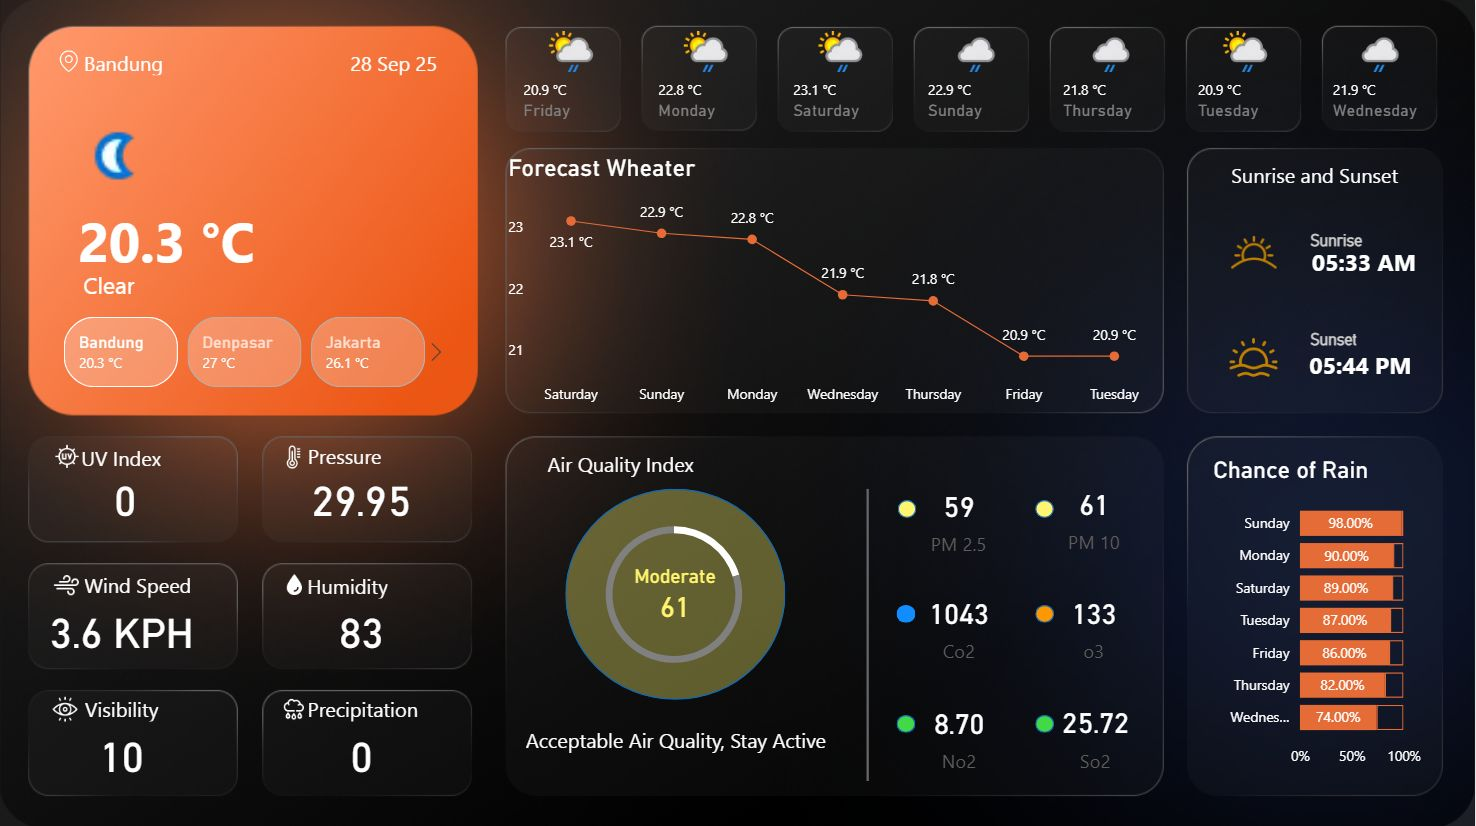

Layout of this report page (visuals, bound fields, positions):
{"tool":"powerbi","page":{"name":"Page 1","canvas":[1280,720],"ordinal":0},"visuals":[{"type":"shape","box":[491,424,191,183],"z":0},{"type":"advancedSlicerVisual","fields":{"Values":["Location.location.name"]},"box":[31.8,270,363.6,71.8],"z":1000},{"type":"shape","box":[60,150,218.3,116.7],"z":2000},{"type":"shape","box":[64.3,212.9,427.1,68.6],"z":3000},{"type":"shape","box":[73.6,40.9,97.3,25.5],"z":4000},{"type":"shape","box":[287.3,40.9,92.7,26.4],"z":5000},{"type":"image","box":[40,39.1,40.9,28.2],"z":6000},{"type":"cardVisual","fields":{"Data":["Min(Current.current.condition.icon)"]},"box":[21.7,53.3,158.3,118.3],"z":7000},{"type":"image","box":[40,600,34.1,31.4],"z":8000},{"type":"image","box":[41.4,491.4,34.3,32.9],"z":9000},{"type":"image","box":[42.9,380,31.4,32.9],"z":10000},{"type":"image","box":[240.9,381.4,30,30],"z":11000},{"type":"image","box":[241.4,491.4,29.1,32.7],"z":12000},{"type":"image","box":[238.9,600,34.4,31.1],"z":13000},{"type":"shape","box":[60,383.8,92.5,26.2],"z":14000},{"type":"shape","box":[253.3,383,92.3,26.3],"z":15000},{"type":"shape","box":[60.6,494.7,119.4,25.9],"z":16000},{"type":"shape","box":[263,494,77.7,26.7],"z":17000},{"type":"shape","box":[66.9,602.3,78.5,26.2],"z":18000},{"type":"shape","box":[256.2,602.3,119.2,26.2],"z":19000},{"type":"card","fields":{"Values":["Sum(Current.current.uv)"]},"box":[31.7,410,156.7,43.3],"z":20000},{"type":"card","fields":{"Values":["Sum(Current.current.pressure_in)"]},"box":[236.7,410,156.7,43.3],"z":21000},{"type":"card","fields":{"Values":["Sum(Current.current.humidity)"]},"box":[236.7,525,156.7,43.3],"z":22000},{"type":"card","fields":{"Values":["_Measures.Wind_Speed"]},"box":[28.3,525,156.7,43.3],"z":23000},{"type":"card","fields":{"Values":["Sum(Current.current.vis_km)"]},"box":[28.3,631.7,156.7,43.3],"z":24000},{"type":"card","fields":{"Values":["Sum(Current.current.precip_in)"]},"box":[236.7,631.7,156.7,43.3],"z":25000},{"type":"advancedSlicerVisual","fields":{"Values":["Forecast_Day.Day_Name"]},"box":[437.1,14.3,822.9,107.1],"z":26000},{"type":"lineChart","title":"Forecast Wheater","fields":{"Y":["Sum(Forecast_Day.forecast.forecastday.day.avgtemp_c)"],"Category":["Forecast_Day.Day_Name"]},"box":[437.1,132.9,567.1,227.1],"z":27000},{"type":"shape","box":[1067.5,133.1,148.8,36.9],"z":28000},{"type":"shape","box":[1130,205.5,130,41.8],"z":29000},{"type":"shape","box":[1128.2,290.9,119.1,50.9],"z":30000},{"type":"shape","box":[1128.6,265.1,110,57.1],"z":31000},{"type":"shape","box":[1129.1,179.1,110,58.2],"z":32000},{"type":"image","box":[1048.6,187.1,80,62.9],"z":33000},{"type":"image","box":[1062.9,281.4,51.4,55.7],"z":34000},{"type":"hundredPercentStackedBarChart","title":"Chance of Rain","fields":{"Y":["Sum(Forecast_Day.forecast.forecastday.day.daily_chance_of_rain)","_Measures.Left_Val_Rain"],"Category":["Forecast_Day.Day_Name"]},"box":[1048.6,395.7,190,278.6],"z":35000},{"type":"shape","box":[460,391,159,23],"z":36000},{"type":"card","fields":{"Values":["Sum(Current.current.air_quality.pm10)"]},"box":[914.6,402.7,72,92],"z":37000},{"type":"card","fields":{"Values":["Sum(Current.current.air_quality.o3)"]},"box":[914.5,494.5,71.8,97.3],"z":38000},{"type":"card","fields":{"Values":["Sum(Current.current.air_quality.so2)"]},"box":[907.3,589.1,87.3,98.2],"z":39000},{"type":"card","fields":{"Values":["Sum(Current.current.air_quality.pm2_5)"]},"box":[779.4,403.1,106,93],"z":40000},{"type":"card","fields":{"Values":["Sum(Current.current.air_quality.co)"]},"box":[766.4,496.4,132.7,92.7],"z":41000},{"type":"card","fields":{"Values":["Sum(Current.current.air_quality.no2)"]},"box":[789.1,589.1,87.3,99.1],"z":42000},{"type":"shape","box":[899.1,524.5,16.4,15.5],"z":43000},{"type":"shape","box":[899.1,433.3,16.1,15.6],"z":44000},{"type":"shape","box":[899.1,620,16.4,15.5],"z":45000},{"type":"shape","box":[779.1,433.3,16.1,15.6],"z":46000},{"type":"shape","box":[778.2,524.5,16.4,15.5],"z":47000},{"type":"shape","box":[778.2,620,16.4,15.5],"z":48000},{"type":"shape","box":[674.5,423.6,158.2,253.6],"z":49000},{"type":"card","fields":{"Values":["Sum(Current.current.air_quality.pm10)"]},"box":[545,490,82,53],"z":50000},{"type":"donutChart","fields":{"Y":["Sum(Current.current.air_quality.pm10)","_Measures.Left_VAL_PM10"]},"box":[491,437,189,158],"z":51000},{"type":"shape","box":[440,608,294,67],"z":52000}]}

Visuals, with their boxes in screenshot pixels (x1, y1, x2, y2), scaled from the page's 1280x720 canvas onto the 1476x826 screenshot:
shape: (566, 486, 786, 696)
advancedSlicerVisual - Location.location.name: (37, 310, 456, 392)
shape: (69, 172, 321, 306)
shape: (74, 244, 567, 323)
shape: (85, 47, 197, 76)
shape: (331, 47, 438, 77)
image: (46, 45, 93, 77)
cardVisual - Min(Current.current.condition.icon): (25, 61, 208, 197)
image: (46, 688, 85, 724)
image: (48, 564, 87, 601)
image: (49, 436, 86, 474)
image: (278, 438, 312, 472)
image: (278, 564, 312, 601)
image: (275, 688, 315, 724)
shape: (69, 440, 176, 470)
shape: (292, 439, 399, 470)
shape: (70, 568, 208, 597)
shape: (303, 567, 393, 597)
shape: (77, 691, 168, 721)
shape: (295, 691, 433, 721)
card - Sum(Current.current.uv): (37, 470, 217, 520)
card - Sum(Current.current.pressure_in): (273, 470, 454, 520)
card - Sum(Current.current.humidity): (273, 602, 454, 652)
card - _Measures.Wind_Speed: (33, 602, 213, 652)
card - Sum(Current.current.vis_km): (33, 725, 213, 774)
card - Sum(Current.current.precip_in): (273, 725, 454, 774)
advancedSlicerVisual - Forecast_Day.Day_Name: (504, 16, 1453, 139)
"Forecast Wheater" lineChart: (504, 152, 1158, 413)
shape: (1231, 153, 1403, 195)
shape: (1303, 236, 1453, 284)
shape: (1301, 334, 1438, 392)
shape: (1301, 304, 1428, 370)
shape: (1302, 205, 1429, 272)
image: (1209, 215, 1301, 287)
image: (1226, 323, 1285, 387)
"Chance of Rain" hundredPercentStackedBarChart: (1209, 454, 1428, 774)
shape: (530, 449, 714, 475)
card - Sum(Current.current.air_quality.pm10): (1055, 462, 1138, 568)
card - Sum(Current.current.air_quality.o3): (1055, 567, 1137, 679)
card - Sum(Current.current.air_quality.so2): (1046, 676, 1147, 788)
card - Sum(Current.current.air_quality.pm2_5): (899, 462, 1021, 569)
card - Sum(Current.current.air_quality.co): (884, 569, 1037, 676)
card - Sum(Current.current.air_quality.no2): (910, 676, 1011, 790)
shape: (1037, 602, 1056, 620)
shape: (1037, 497, 1055, 515)
shape: (1037, 711, 1056, 729)
shape: (898, 497, 917, 515)
shape: (897, 602, 916, 620)
shape: (897, 711, 916, 729)
shape: (778, 486, 960, 777)
card - Sum(Current.current.air_quality.pm10): (628, 562, 723, 623)
donutChart - Sum(Current.current.air_quality.pm10) x _Measures.Left_VAL_PM10: (566, 501, 784, 683)
shape: (507, 698, 846, 774)
